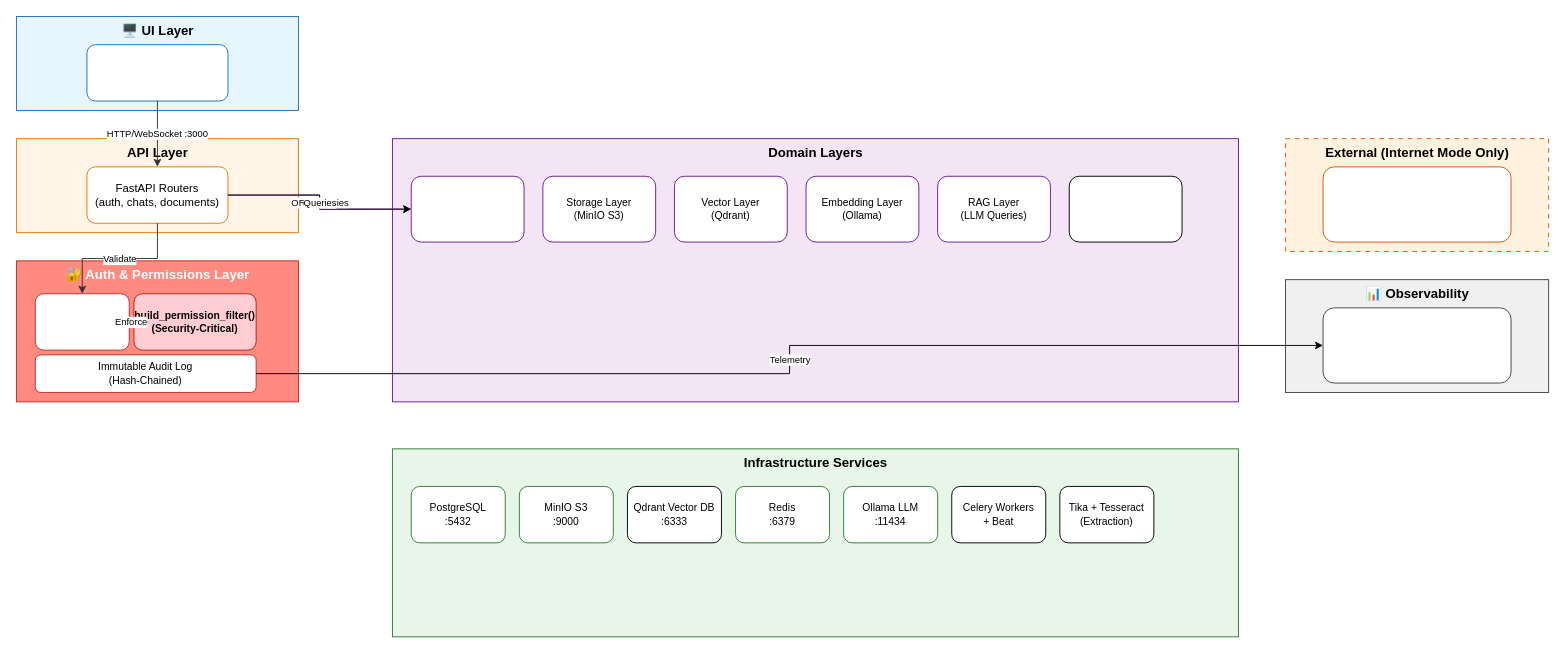
This 1565x653 diagram has some shape labels left out. The centre of each missing label's shape, as x and y in pixels:
Browser / Client (Next.js App): point 157,72
Data Layer (SQLAlchemy ORM): point 467,208
Grafana otel-lgtm (Traces, Metrics, Logs) :3001: point 1416,345
JWT/MFA Verification: point 81,321
OneDrive / SharePoint (Cloud Storage): point 1416,204
Worker Layer (Celery): point 1125,208
